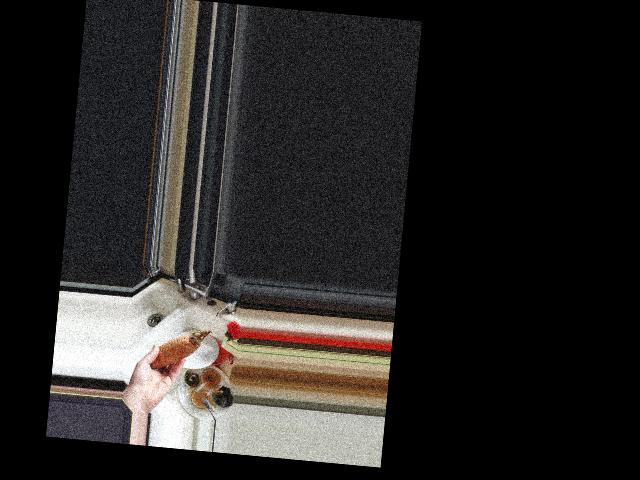sweet_potato: (144, 324, 213, 377)
